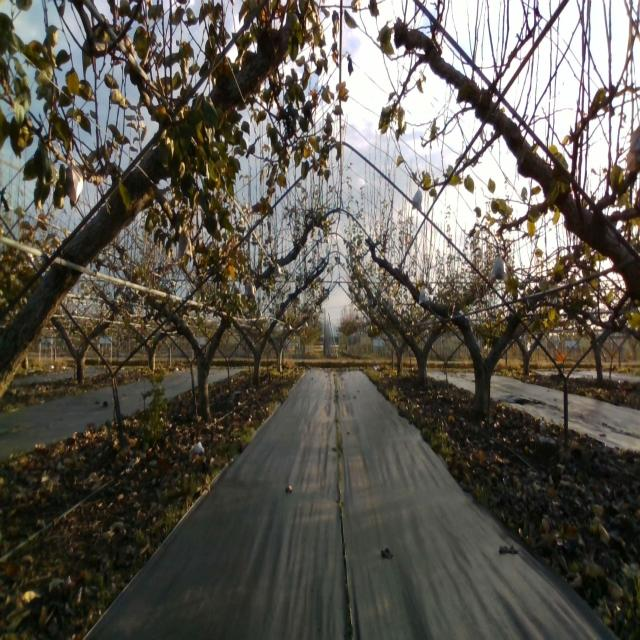pearbags: (65, 150, 84, 204), (178, 226, 193, 261), (490, 256, 508, 283), (412, 186, 422, 212), (418, 285, 429, 304)
